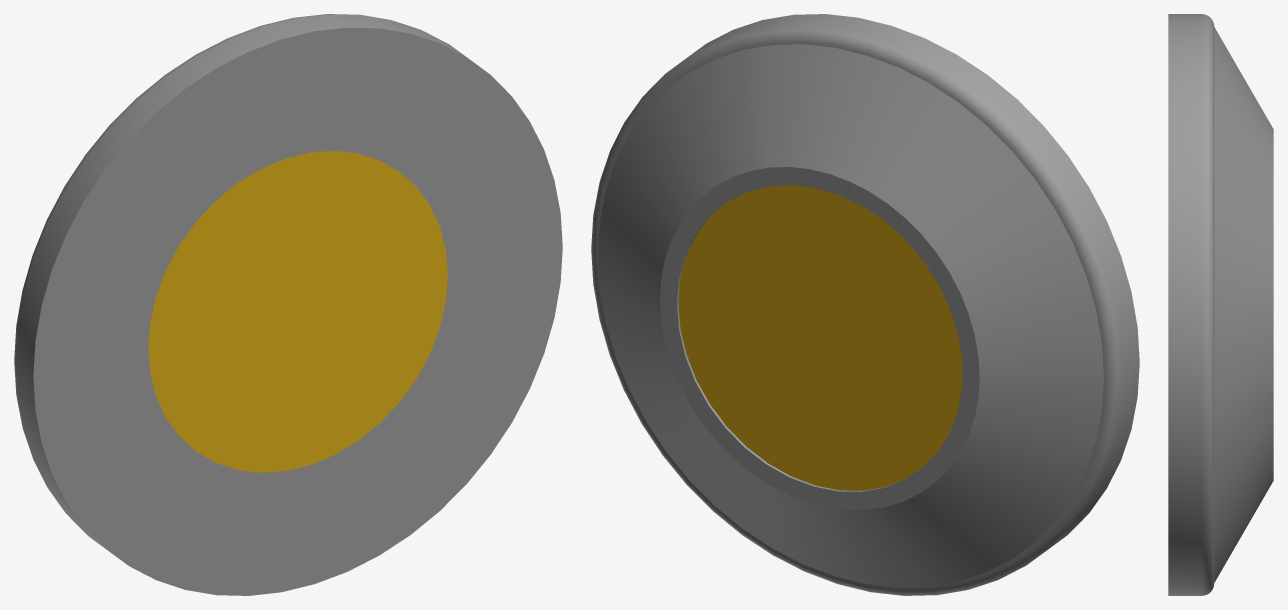
3 renders of one model, left to right at view 1: azimuth 30°, elevation 25°; view 2: azimuth 150°, elevation 25°; view 3: azimuth 270°, elevation 25°, orthographic. The views are drawn at different scales.
Visible parts, largest first — view 1: sloping_surround, center; view 2: sloping_surround, center, circular_lip; view 3: sloping_surround.
Part boxes in pixels (bbox=[...]): sloping_surround: bbox=[14, 14, 562, 595]; center: bbox=[148, 151, 447, 472]; sloping_surround: bbox=[591, 14, 1139, 595]; center: bbox=[678, 185, 962, 490]; circular_lip: bbox=[666, 173, 973, 503]; sloping_surround: bbox=[1168, 14, 1273, 595].
Size of the model in its own units: 0.05 by 0.0499 by 0.00904.
